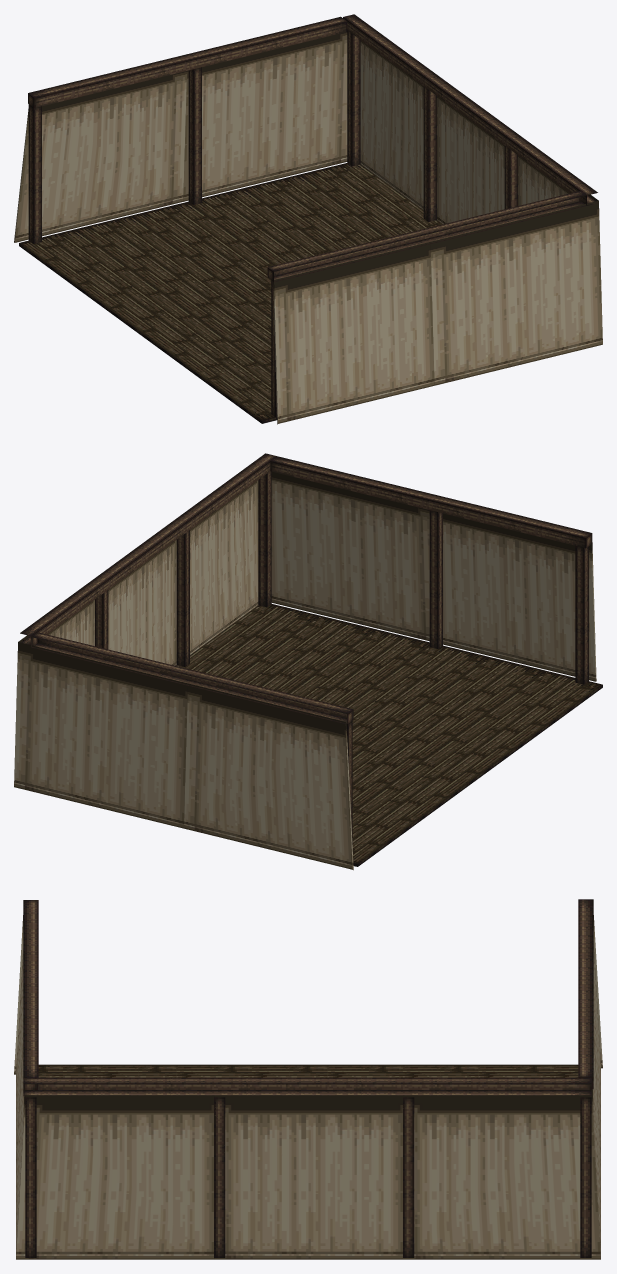
File: EnvBdgMD_Desert_C_Indoor_Tent_A.FBX
The picture shows the model from 3 angles, top to bottom: view 1: azimuth 30°, elevation 25°; view 2: azimuth 150°, elevation 25°; view 3: azimuth 270°, elevation 25°; orthographic projection. The views are drawn at different scales.
Visible parts, largest first — view 1: EnvBdgMD_Desert_C_Indoor_Tent_A; view 2: EnvBdgMD_Desert_C_Indoor_Tent_A; view 3: EnvBdgMD_Desert_C_Indoor_Tent_A.
Part boxes in pixels (x1,y1,x2,y2): EnvBdgMD_Desert_C_Indoor_Tent_A: [14, 14, 602, 424]; EnvBdgMD_Desert_C_Indoor_Tent_A: [14, 453, 602, 870]; EnvBdgMD_Desert_C_Indoor_Tent_A: [14, 899, 602, 1259].
Size of the model in its own units: 1200 by 510 by 1560.
